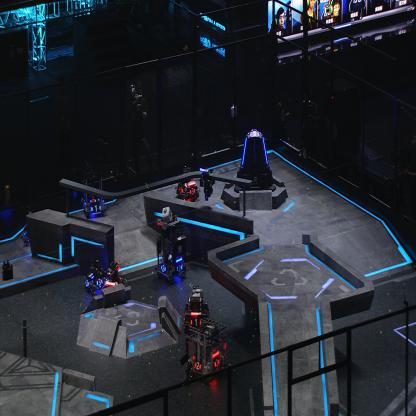car: (183, 317, 227, 384), (155, 216, 188, 282), (183, 284, 211, 333), (81, 169, 107, 218), (102, 260, 130, 298), (82, 258, 110, 294), (175, 163, 201, 200), (20, 209, 45, 246)
